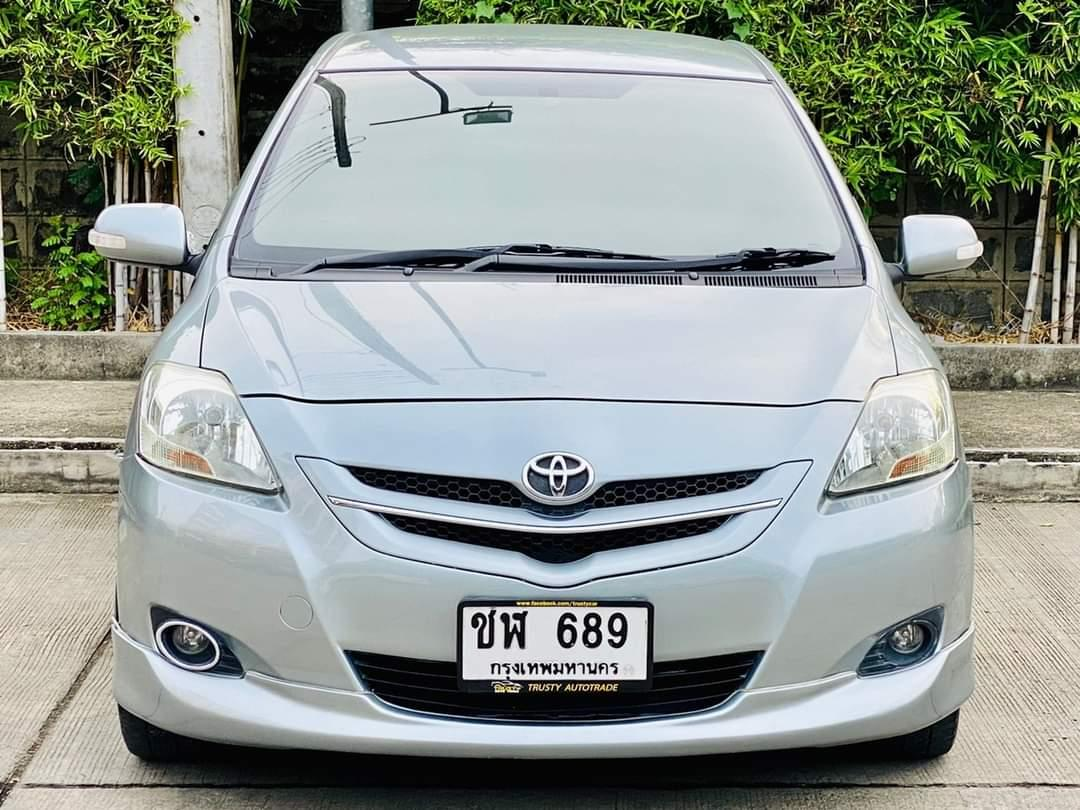license-plate: (456, 596, 656, 707)
